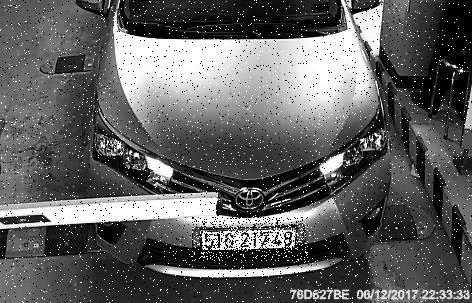License-plate: (193, 218, 309, 262)
